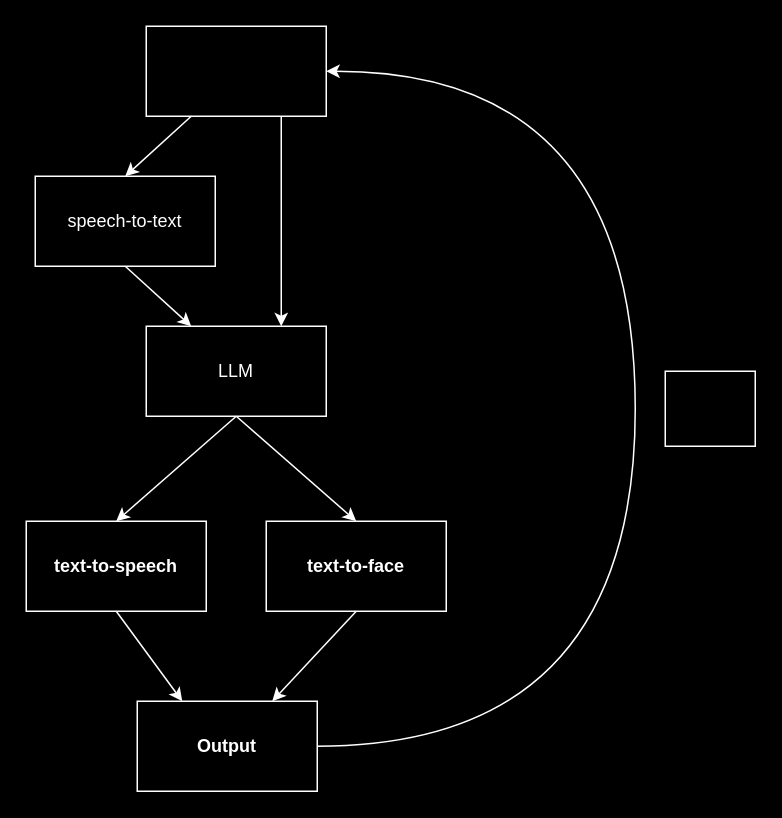
This 782x818 diagram has some shape labels left out. The centre of each missing label's shape, as x and y in pixels:
"Input" belongs at (x=235, y=70).
"Visual, Audio, Physical" belongs at (x=709, y=408).
